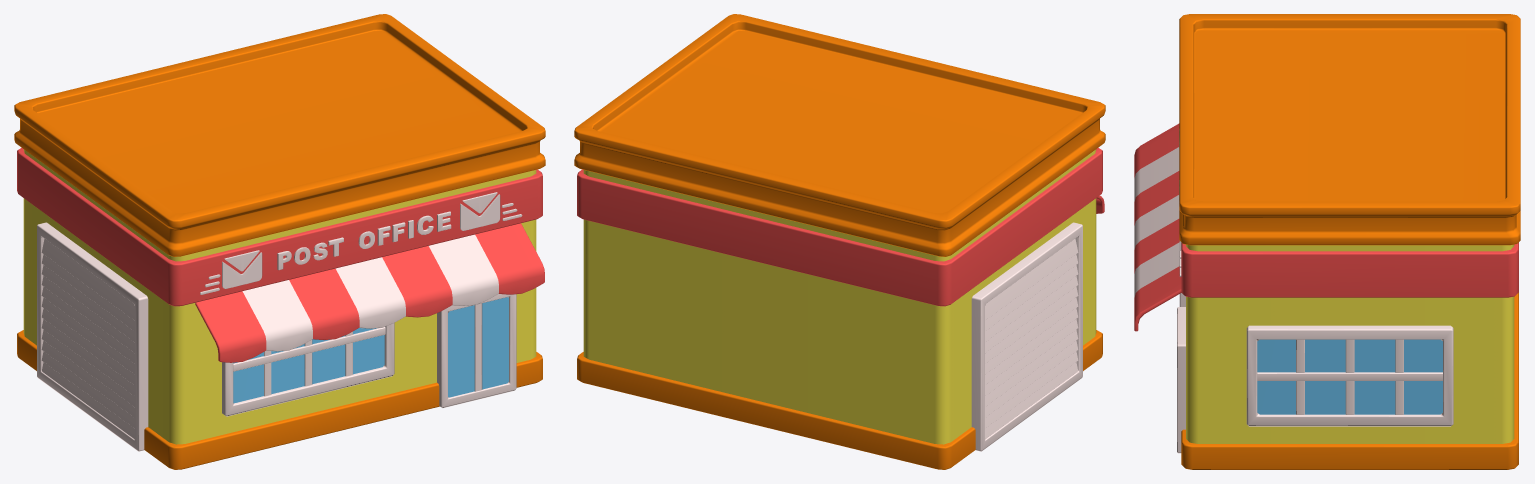
File: Public_6_Post_Office_1.glb
The picture shows the model from 3 angles, left to right: view 1: azimuth 30°, elevation 25°; view 2: azimuth 150°, elevation 25°; view 3: azimuth 270°, elevation 25°; orthographic projection. The views are drawn at different scales.
Parts seen in each view (by area): view 1: Public_6_Post_Office_1; view 2: Public_6_Post_Office_1; view 3: Public_6_Post_Office_1.
Part boxes in pixels (box(x1,y1,x2,y2)): Public_6_Post_Office_1: box(14, 14, 545, 469); Public_6_Post_Office_1: box(574, 14, 1105, 469); Public_6_Post_Office_1: box(1134, 14, 1520, 469).
Size of the model in its own units: 10.54 by 6.62 by 8.77.
1 material, 1 textured.
